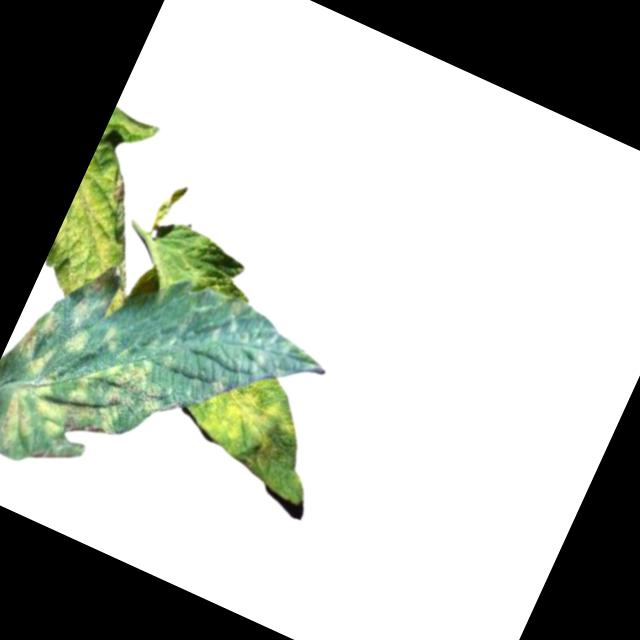Leaf_Mold: (1, 295, 191, 506), (32, 158, 166, 325), (188, 361, 306, 471)
